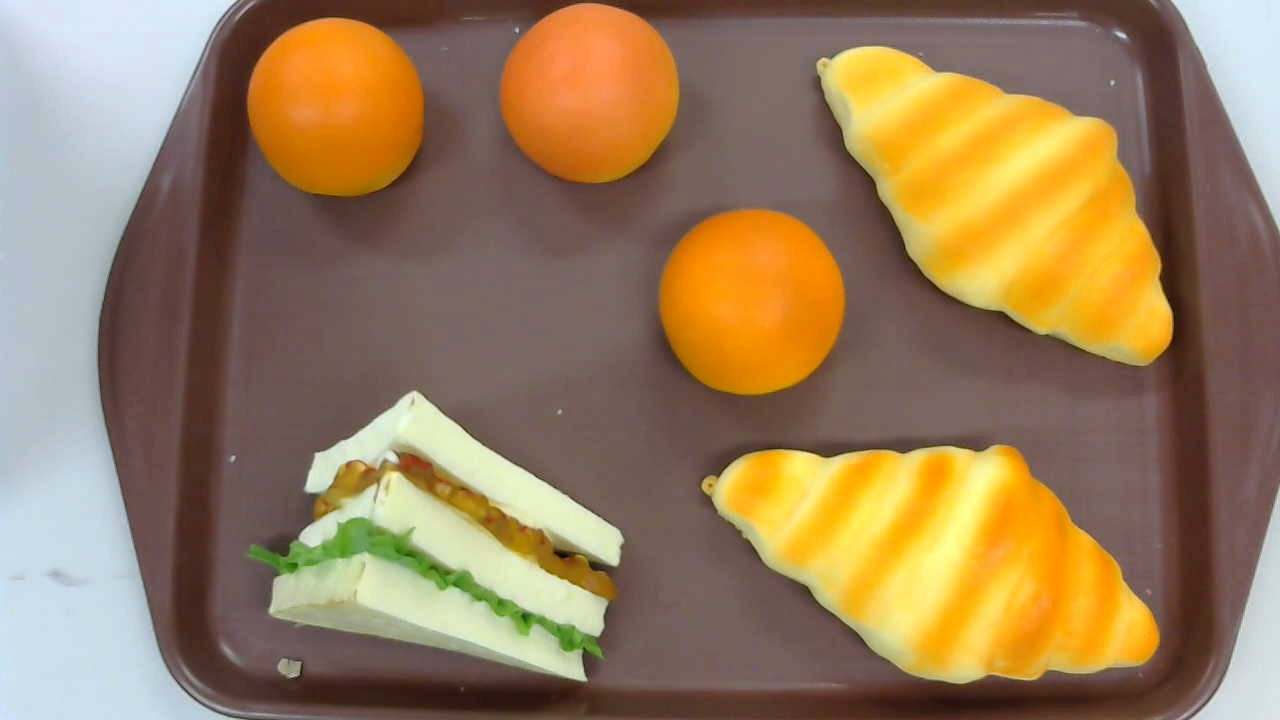bun: (659, 206, 845, 397), (247, 17, 425, 199), (500, 2, 678, 182)
croissant: (816, 45, 1173, 368), (700, 445, 1161, 686)
sandwich: (243, 390, 626, 683)
